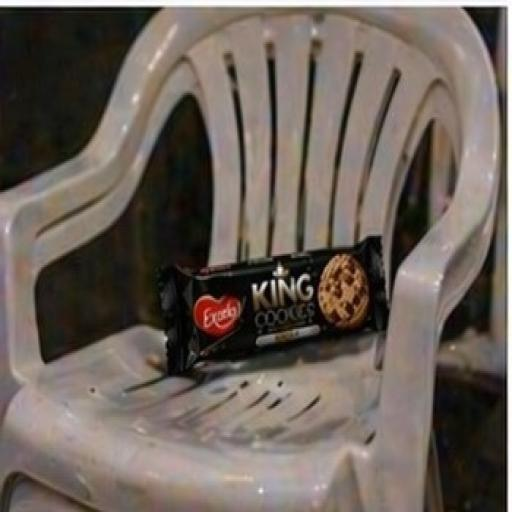king-cooking: (135, 195, 415, 375)
